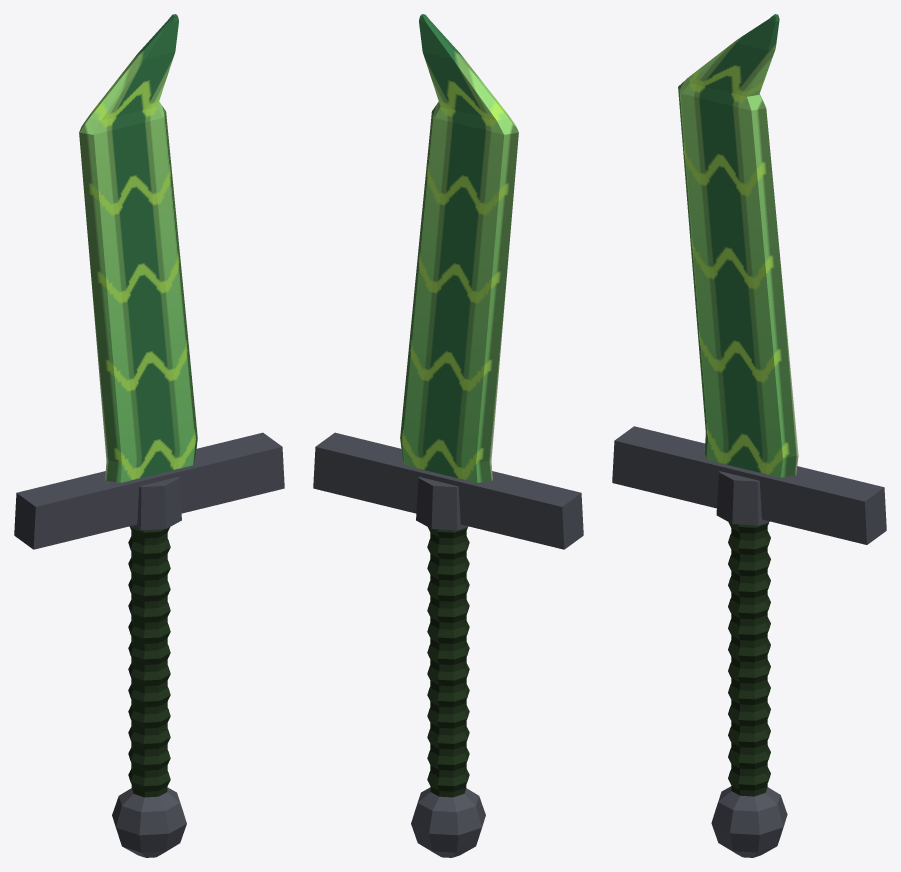
The model's file is venom_knife.obj.
3 renders of one model, left to right at view 1: azimuth 30°, elevation 25°; view 2: azimuth 150°, elevation 25°; view 3: azimuth 330°, elevation 25°, orthographic.
Visible parts, largest first — view 1: A_Blade.001_venom_knife_blade, B_Guard.001_venom_knife_fittings, C_Grip.001_venom_knife_grip, C_Pommel.001_venom_knife_fittings, B_Collar.001_venom_knife_fittings; view 2: A_Blade.001_venom_knife_blade, B_Guard.001_venom_knife_fittings, C_Grip.001_venom_knife_grip, C_Pommel.001_venom_knife_fittings, B_Collar.001_venom_knife_fittings; view 3: A_Blade.001_venom_knife_blade, B_Guard.001_venom_knife_fittings, C_Grip.001_venom_knife_grip, C_Pommel.001_venom_knife_fittings, B_Collar.001_venom_knife_fittings.
Part boxes in pixels (bbox=[...]): A_Blade.001_venom_knife_blade: bbox=[79, 14, 197, 482]; B_Guard.001_venom_knife_fittings: bbox=[14, 432, 284, 549]; C_Grip.001_venom_knife_grip: bbox=[128, 527, 170, 797]; C_Pommel.001_venom_knife_fittings: bbox=[112, 787, 186, 857]; B_Collar.001_venom_knife_fittings: bbox=[129, 477, 181, 530]; A_Blade.001_venom_knife_blade: bbox=[400, 14, 518, 482]; B_Guard.001_venom_knife_fittings: bbox=[313, 432, 583, 549]; C_Grip.001_venom_knife_grip: bbox=[427, 527, 469, 797]; C_Pommel.001_venom_knife_fittings: bbox=[411, 787, 485, 857]; B_Collar.001_venom_knife_fittings: bbox=[416, 477, 468, 530]; A_Blade.001_venom_knife_blade: bbox=[678, 14, 798, 477]; B_Guard.001_venom_knife_fittings: bbox=[612, 426, 886, 544]; C_Grip.001_venom_knife_grip: bbox=[728, 522, 770, 796]; C_Pommel.001_venom_knife_fittings: bbox=[711, 786, 787, 857]; B_Collar.001_venom_knife_fittings: bbox=[716, 471, 769, 525].
Size of the model in its own units: 1.12 by 3.55 by 0.3.
3 materials, 1 textured.
